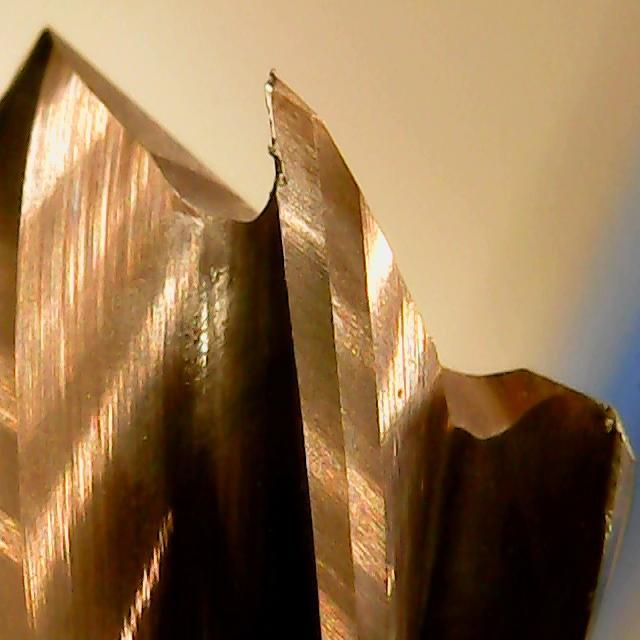Tool-wear-class-1: (254, 68, 371, 287)
